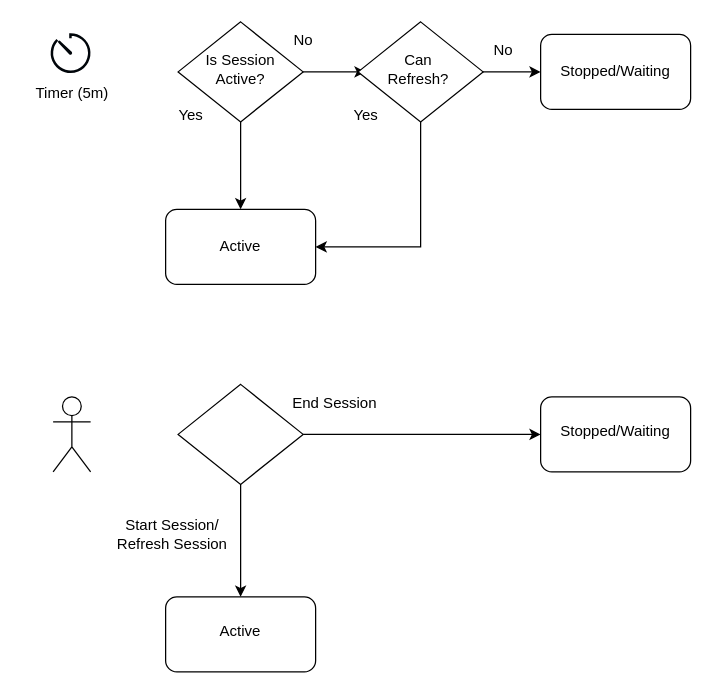
This 713x694 diagram has some shape labels left out. The shapes that lost their labels are listed below. From the top down, each one's centre as x and y in pixels, then its label:
At pixel 71 434: "Actor".
At pixel 240 433: "User Input".
